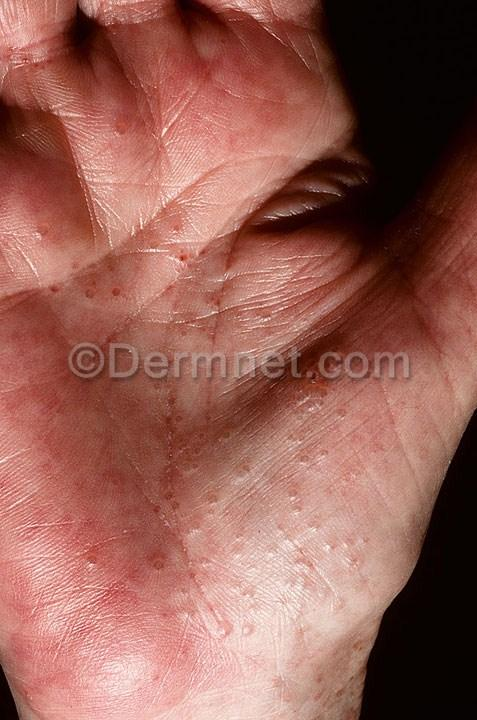Eczema: (262, 377, 395, 597), (36, 463, 198, 628), (119, 212, 275, 333), (18, 203, 132, 335), (71, 62, 198, 171), (115, 383, 238, 473), (271, 619, 369, 720), (0, 17, 100, 81)
